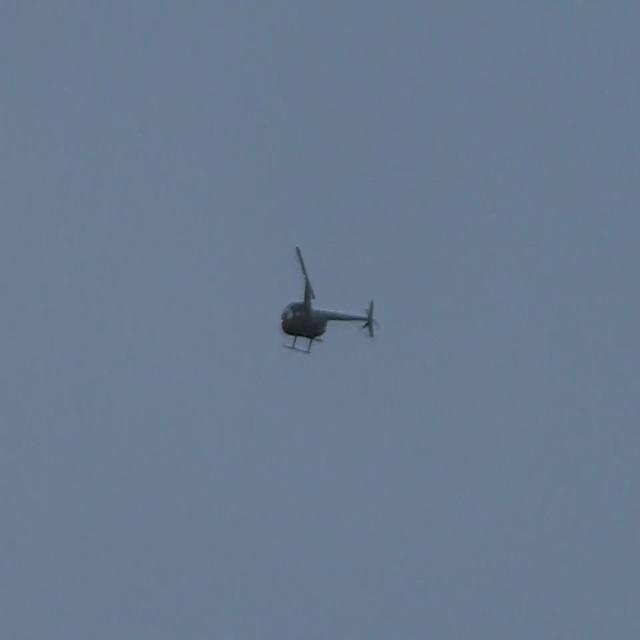CIV_HELO: (280, 275, 374, 353)
